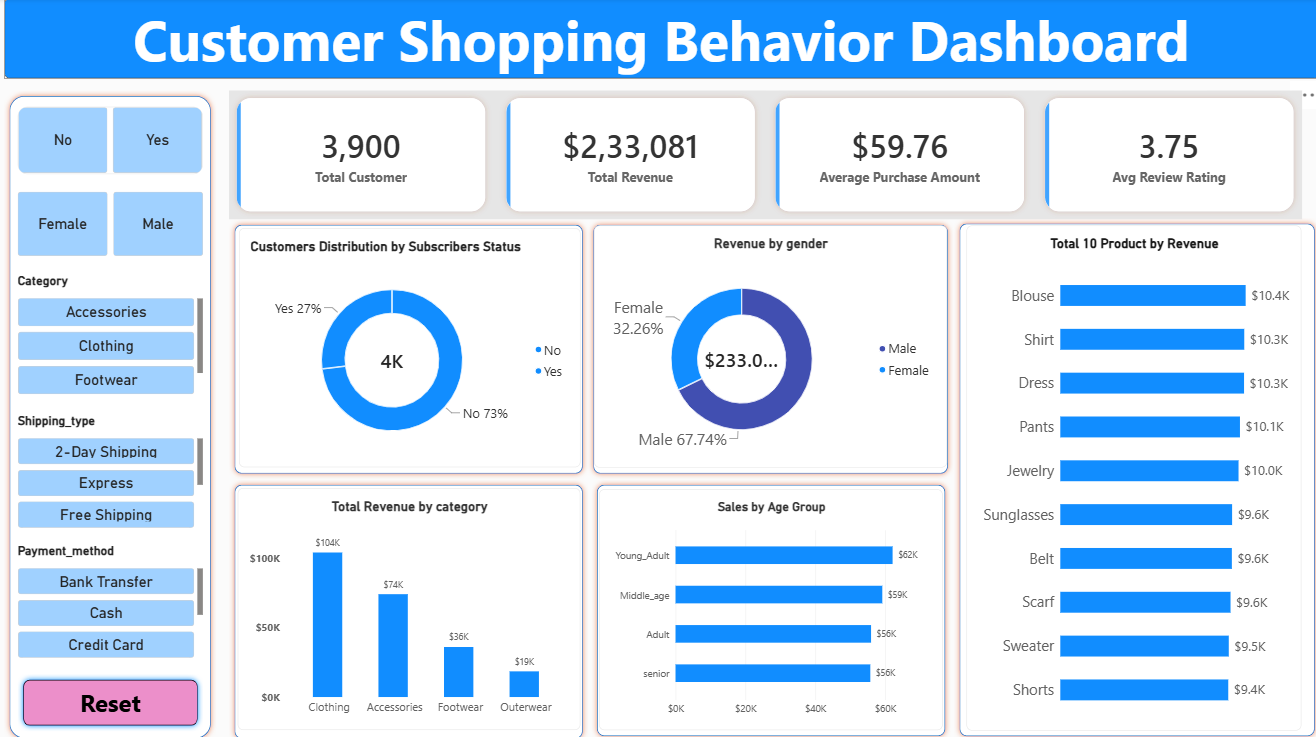

This screenshot's page, from the dashboard's own definition file:
{"tool":"powerbi","page":{"name":"Page 1","canvas":[1920,1080],"ordinal":0},"visuals":[{"type":"shape","box":[1389.8,318.5,530.2,758.2],"z":0},{"type":"shape","box":[865,697.2,520.1,379.9],"z":1000},{"type":"shape","box":[339.4,697.2,520.1,383.6],"z":2000},{"type":"shape","box":[859.5,320.9,529.3,376.3],"z":3000},{"type":"shape","box":[339.4,320.9,520.1,376.3],"z":4000},{"type":"shape","box":[15.1,0,1904.4,116.9],"z":5000},{"type":"cardVisual","fields":{"Data":["customer_behavior customer.Total Customer","customer_behavior customer.Total Revenue","customer_behavior customer.Average Purchase Amount","customer_behavior customer.Avg Review Rating"]},"box":[339.8,134.2,1553.9,186.1],"z":6000},{"type":"donutChart","title":"Customers Distribution by Subscribers Status","fields":{"Category":["customer_behavior customer.subscription_status"],"Y":["customer_behavior customer.Total Customer"]},"box":[354.1,333.8,494.3,346.7],"z":7000},{"type":"clusteredColumnChart","fields":{"Category":["customer_behavior customer.category"],"Y":["customer_behavior customer.Total Revenue"]},"box":[352.8,709.8,496.1,350.4],"z":8000},{"type":"clusteredBarChart","title":"Sales by Age Group","fields":{"Category":["customer_behavior customer.age_group"],"Y":["customer_behavior customer.Total Revenue"]},"box":[876.1,711.9,498,348.6],"z":9000},{"type":"donutChart","title":"Revenue by gender","fields":{"Category":["customer_behavior customer.gender"],"Y":["customer_behavior customer.Total Revenue"]},"box":[868.7,330.1,510.9,350.4],"z":10000},{"type":"clusteredBarChart","title":"Total 10 Product by Revenue","fields":{"Category":["customer_behavior customer.item_purchased"],"Y":["customer_behavior customer.Total Revenue"]},"box":[1407.9,329.4,485,731.1],"z":11000},{"type":"shape","box":[15.1,134.2,307.3,945.7],"z":11001},{"type":"advancedSlicerVisual","fields":{"Values":["customer_behavior customer.subscription_status"]},"box":[34.6,158,268.4,97.4],"z":11002},{"type":"advancedSlicerVisual","fields":{"Values":["customer_behavior customer.gender"]},"box":[34.6,281.3,268.4,93.1],"z":11003},{"type":"advancedSlicerVisual","title":"Category","fields":{"Values":["customer_behavior customer.category"]},"box":[34.6,398.2,268.4,177.5],"z":11004},{"type":"advancedSlicerVisual","title":"Shipping_type","fields":{"Values":["customer_behavior customer.shipping_type"]},"box":[34.6,601.6,268.4,168.8],"z":11005},{"type":"advancedSlicerVisual","title":"Payment_method","fields":{"Values":["customer_behavior customer.payment_method"]},"box":[34.6,789.9,268.4,168.8],"z":11006},{"type":"actionButton","box":[34.6,978.2,268.4,82.2],"z":11007}]}

Visuals, with their boxes in screenshot pixels (x1, y1, x2, y2), scaled from the page's 1920x1080 canvas onto the 1316x737 screenshot:
shape: detection(953, 217, 1315, 735)
shape: detection(593, 476, 949, 735)
shape: detection(233, 476, 589, 736)
shape: detection(589, 219, 952, 476)
shape: detection(233, 219, 589, 476)
shape: detection(10, 0, 1315, 80)
cardVisual - customer_behavior customer.Total Customer x customer_behavior customer.Total Revenue: detection(233, 92, 1298, 219)
"Customers Distribution by Subscribers Status" donutChart: detection(243, 228, 582, 464)
clusteredColumnChart - customer_behavior customer.category x customer_behavior customer.Total Revenue: detection(242, 484, 582, 723)
"Sales by Age Group" clusteredBarChart: detection(600, 486, 942, 724)
"Revenue by gender" donutChart: detection(595, 225, 946, 464)
"Total 10 Product by Revenue" clusteredBarChart: detection(965, 225, 1297, 724)
shape: detection(10, 92, 221, 736)
advancedSlicerVisual - customer_behavior customer.subscription_status: detection(24, 108, 208, 174)
advancedSlicerVisual - customer_behavior customer.gender: detection(24, 192, 208, 255)
"Category" advancedSlicerVisual: detection(24, 272, 208, 393)
"Shipping_type" advancedSlicerVisual: detection(24, 411, 208, 526)
"Payment_method" advancedSlicerVisual: detection(24, 539, 208, 654)
actionButton: detection(24, 668, 208, 724)
